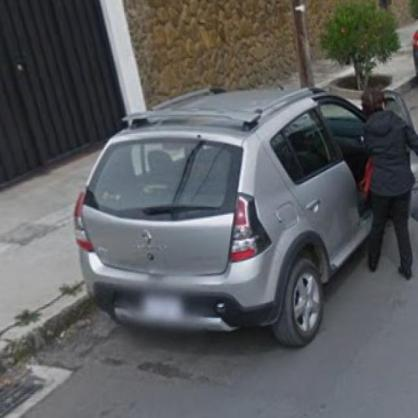car: (78, 80, 418, 350)
